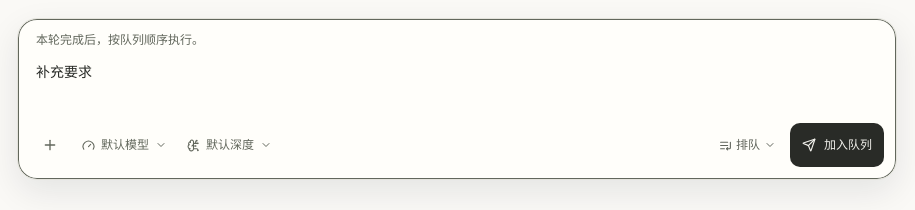
Composer 浮层缺陷回归 › 发送模式菜单不再是幽灵浮层：输入清空后触发按钮消失，菜单跟着消失
Click the button "排队": (748, 145) [711,125,784,165]
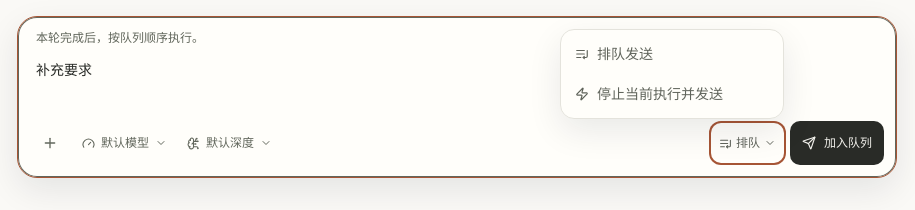
Check: the button "停止当前执行并发送" is shown, box [565,74,779,114]
